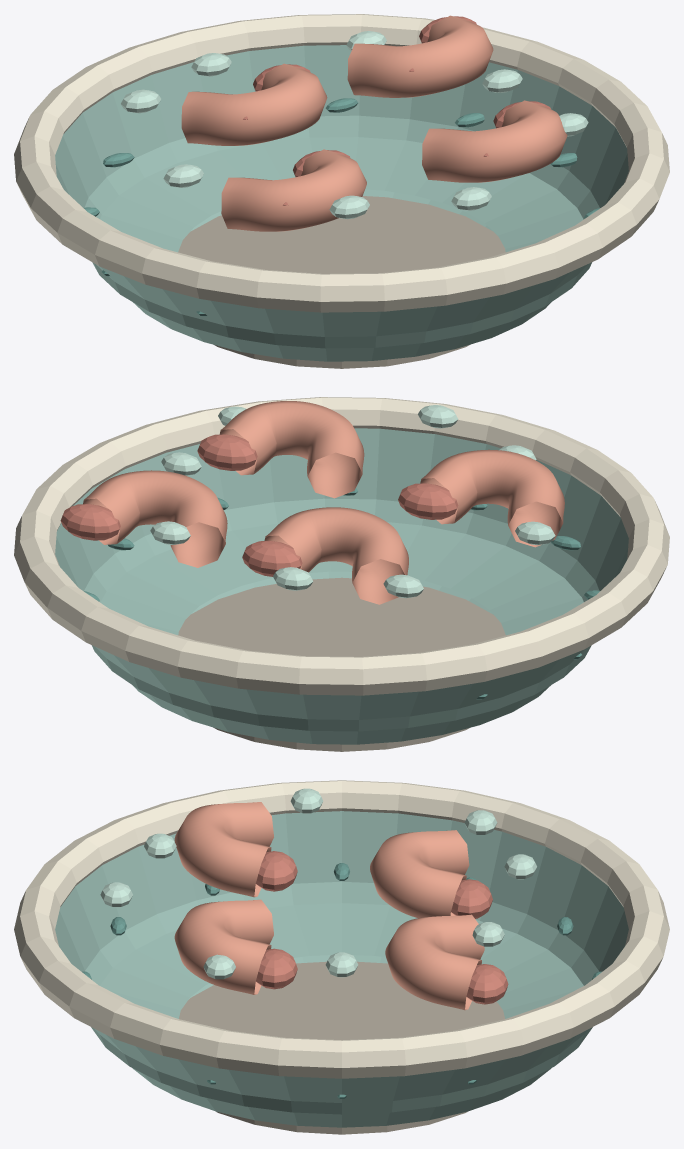
Rendered from washed_shrimp.glb.
3 renders of one model, top to bottom at view 1: azimuth 30°, elevation 25°; view 2: azimuth 150°, elevation 25°; view 3: azimuth 270°, elevation 25°, orthographic.
Parts seen in each view (by area): view 1: shrimp_celadon_colander_hollow_profile, shrimp_celadon_colander_rolled_lip, shrimp_celadon_colander_foot_ring, curled_shrimp_3, curled_shrimp_2, curled_shrimp_1, curled_shrimp_0, shrimp_water_bead_4, shrimp_water_bead_7, shrimp_water_bead_2, shrimp_water_bead_0, shrimp_water_bead_1 (+1 smaller); view 2: shrimp_celadon_colander_hollow_profile, shrimp_celadon_colander_rolled_lip, shrimp_celadon_colander_foot_ring, curled_shrimp_1, curled_shrimp_3, curled_shrimp_2, curled_shrimp_0, shrimp_tail_fan_0, shrimp_tail_fan_1, shrimp_tail_fan_3, shrimp_tail_fan_2, shrimp_water_bead_6 (+5 smaller); view 3: shrimp_celadon_colander_hollow_profile, shrimp_celadon_colander_rolled_lip, shrimp_celadon_colander_foot_ring, curled_shrimp_0, curled_shrimp_3, curled_shrimp_2, curled_shrimp_1, shrimp_tail_fan_1, shrimp_tail_fan_3, shrimp_tail_fan_0, shrimp_tail_fan_2, shrimp_water_bead_0 (+7 smaller).
Boxes of the visible parts, x1=… form: shrimp_celadon_colander_hollow_profile: x1=55, y1=45, x2=628, y2=361; shrimp_celadon_colander_rolled_lip: x1=14, y1=14, x2=669, y2=312; shrimp_celadon_colander_foot_ring: x1=178, y1=196, x2=505, y2=368; curled_shrimp_3: x1=347, y1=15, x2=493, y2=97; curled_shrimp_2: x1=181, y1=63, x2=327, y2=145; curled_shrimp_1: x1=422, y1=100, x2=567, y2=182; curled_shrimp_0: x1=221, y1=149, x2=366, y2=231; shrimp_water_bead_4: x1=163, y1=164, x2=203, y2=187; shrimp_water_bead_7: x1=329, y1=195, x2=369, y2=219; shrimp_water_bead_2: x1=451, y1=187, x2=491, y2=210; shrimp_water_bead_0: x1=482, y1=69, x2=522, y2=92; shrimp_water_bead_1: x1=121, y1=89, x2=160, y2=113; shrimp_celadon_colander_hollow_profile: x1=55, y1=428, x2=628, y2=744; shrimp_celadon_colander_rolled_lip: x1=14, y1=397, x2=669, y2=695; shrimp_celadon_colander_foot_ring: x1=178, y1=577, x2=505, y2=751; curled_shrimp_1: x1=219, y1=401, x2=364, y2=498; curled_shrimp_3: x1=83, y1=470, x2=227, y2=567; curled_shrimp_2: x1=264, y1=507, x2=408, y2=604; curled_shrimp_0: x1=420, y1=449, x2=564, y2=547; shrimp_tail_fan_0: x1=398, y1=483, x2=458, y2=519; shrimp_tail_fan_1: x1=197, y1=434, x2=257, y2=470; shrimp_tail_fan_3: x1=60, y1=504, x2=120, y2=540; shrimp_tail_fan_2: x1=242, y1=540, x2=302, y2=576; shrimp_water_bead_6: x1=273, y1=567, x2=313, y2=590; shrimp_celadon_colander_hollow_profile: x1=55, y1=811, x2=628, y2=1127; shrimp_celadon_colander_rolled_lip: x1=14, y1=780, x2=669, y2=1078; shrimp_celadon_colander_foot_ring: x1=179, y1=961, x2=504, y2=1134; curled_shrimp_0: x1=174, y1=802, x2=273, y2=897; curled_shrimp_3: x1=385, y1=914, x2=484, y2=1010; curled_shrimp_2: x1=370, y1=830, x2=469, y2=918; curled_shrimp_1: x1=174, y1=899, x2=273, y2=994; shrimp_tail_fan_1: x1=255, y1=948, x2=297, y2=989; shrimp_tail_fan_3: x1=466, y1=964, x2=508, y2=1004; shrimp_tail_fan_0: x1=255, y1=851, x2=297, y2=891; shrimp_tail_fan_2: x1=451, y1=879, x2=492, y2=918; shrimp_water_bead_0: x1=325, y1=952, x2=358, y2=977.
Size of the model in its own units: 0.6385 by 0.2102 by 0.6385.
